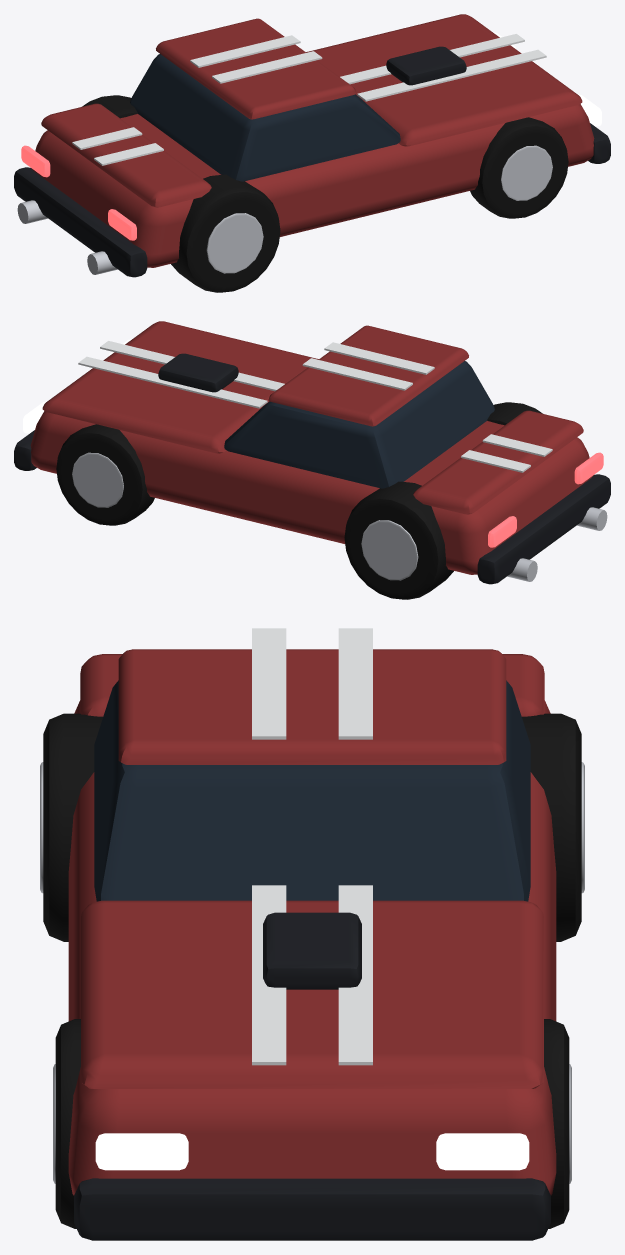
File: muscle.glb
3 renders of one model, top to bottom at view 1: azimuth 30°, elevation 25°; view 2: azimuth 150°, elevation 25°; view 3: azimuth 270°, elevation 25°, orthographic. The views are drawn at different scales.
Parts seen in each view (by area): view 1: body, cabin, hood, roof, trunk, wheel--11--1-tyre, wheel-+11--1-tyre, bumper-rear, wheel--11--1-hub, wheel-+11--1-hub, scoop, stripe-hood--1 (+12 smaller); view 2: body, cabin, hood, roof, trunk, wheel--11-1-tyre, wheel-+11-1-tyre, bumper-rear, wheel--11-1-hub, wheel-+11-1-hub, scoop, stripe-hood-1 (+12 smaller); view 3: hood, cabin, body, roof, bumper-front, wheel--11-1-tyre, wheel--11--1-tyre, scoop, stripe-hood-1, stripe-hood--1, trunk, wheel-+11-1-tyre (+5 smaller).
Boxes of the visible parts, x1,y1,x2,y2 form: body: (31, 104, 594, 267); cabin: (130, 54, 400, 181); hood: (306, 14, 582, 146); roof: (156, 18, 356, 119); trunk: (41, 103, 211, 207); wheel--11--1-tyre: (171, 174, 280, 292); wheel-+11--1-tyre: (470, 117, 568, 218); bumper-rear: (14, 167, 147, 277); wheel--11--1-hub: (206, 213, 263, 273); wheel-+11--1-hub: (501, 145, 552, 200); scoop: (386, 46, 466, 85); stripe-hood--1: (357, 49, 546, 101); body: (30, 411, 593, 574); cabin: (224, 361, 494, 488); hood: (42, 321, 318, 453); roof: (268, 325, 468, 426); trunk: (413, 410, 583, 514); wheel--11-1-tyre: (344, 481, 453, 599); wheel-+11-1-tyre: (56, 424, 154, 525); bumper-rear: (477, 474, 610, 584); wheel--11-1-hub: (361, 520, 418, 580); wheel-+11-1-hub: (72, 452, 123, 507); scoop: (158, 353, 238, 392); stripe-hood-1: (78, 356, 267, 408); hood: (81, 900, 543, 1088); cabin: (94, 680, 530, 901); body: (68, 700, 556, 1195); roof: (118, 649, 506, 764); bumper-front: (74, 1178, 550, 1240); wheel--11-1-tyre: (522, 713, 581, 941); wheel--11--1-tyre: (43, 713, 102, 941); scoop: (263, 912, 361, 989); stripe-hood-1: (338, 885, 372, 1065); stripe-hood--1: (252, 885, 286, 1065); trunk: (80, 654, 544, 716); wheel-+11-1-tyre: (544, 1019, 569, 1228).
Bounding box in the file's own units: 37.1 × 11.81 × 17.6.
